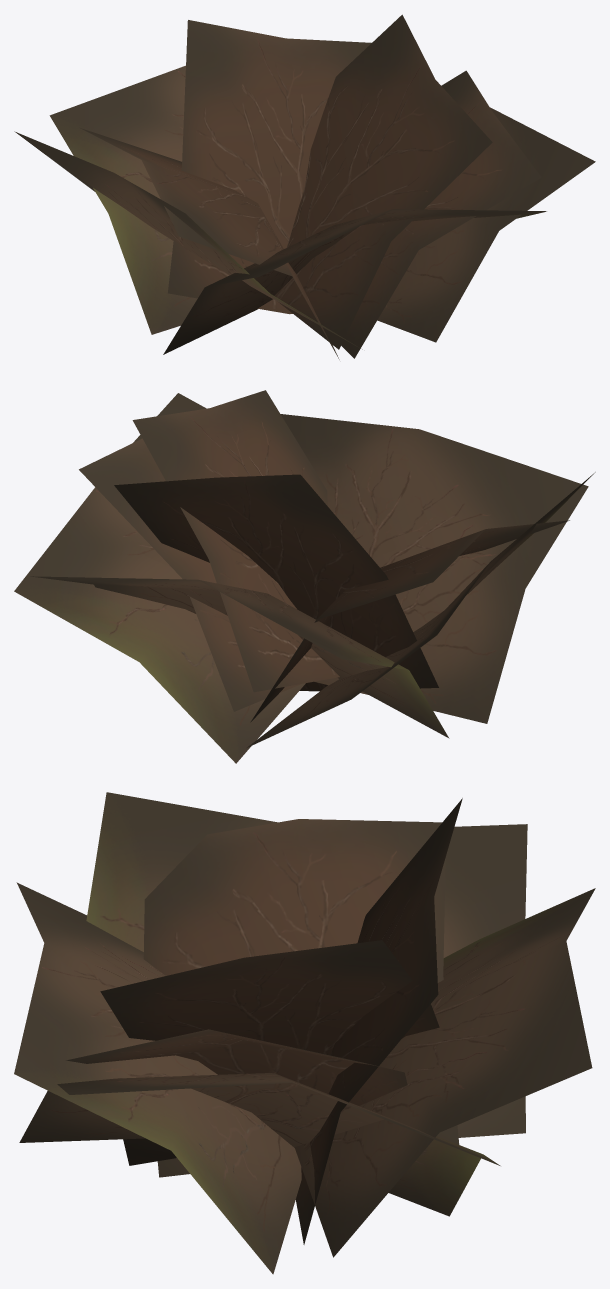
File: tree_03.FBX
3 views of the same model, one above another, from view 1: azimuth 30°, elevation 25°; view 2: azimuth 150°, elevation 25°; view 3: azimuth 270°, elevation 25° (orthographic). The views are drawn at different scales.
Visible parts, largest first — view 1: tree_03; view 2: tree_03; view 3: tree_03.
Boxes of the visible parts, x1=… form: tree_03: x1=14, y1=14, x2=595, y2=359; tree_03: x1=14, y1=390, x2=595, y2=763; tree_03: x1=14, y1=792, x2=595, y2=1274.
Bounding box in the file's own units: 92.71 × 61.49 × 85.93.
